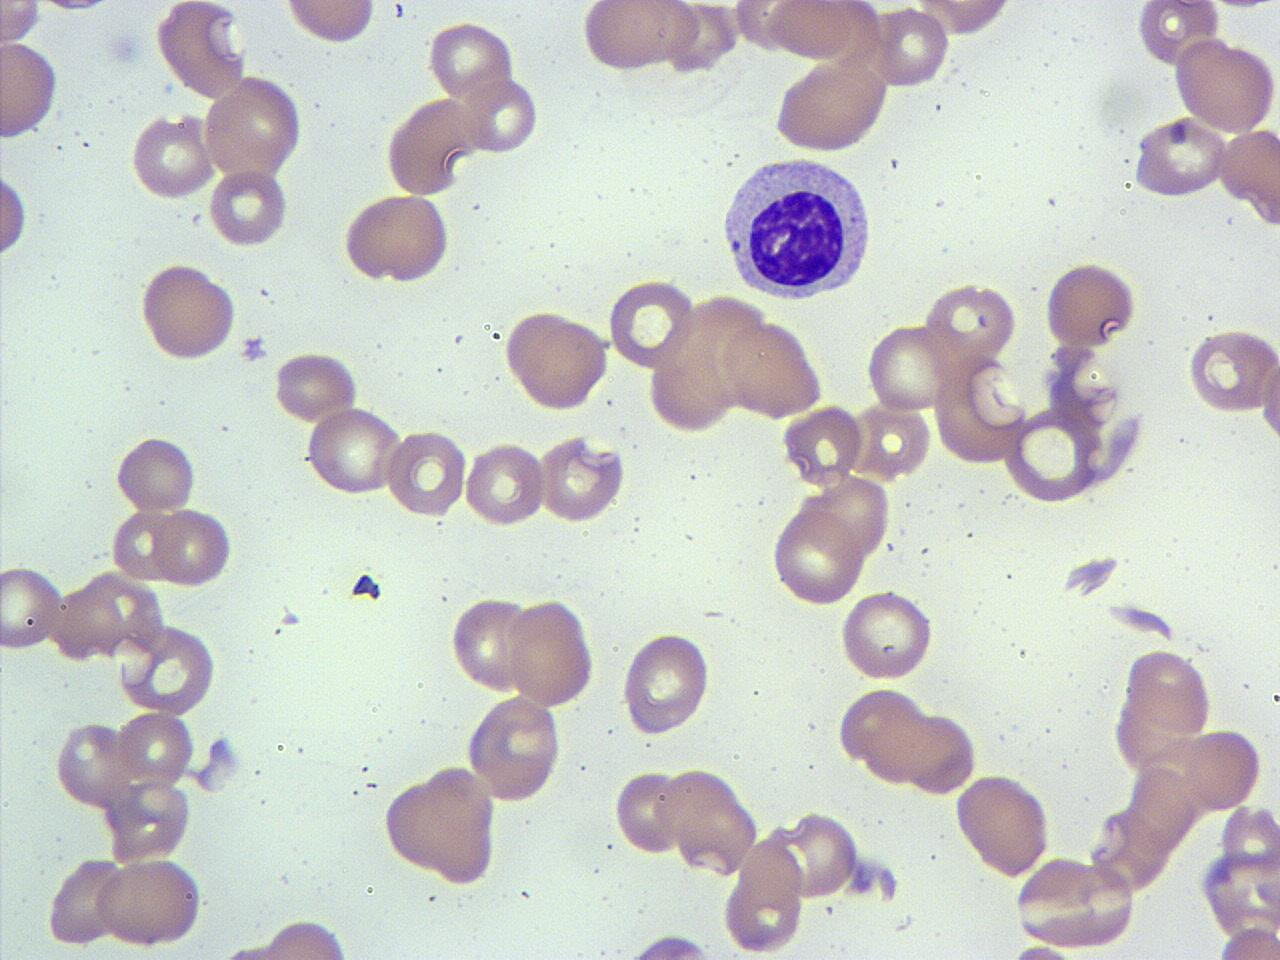Platelets: (1092, 74, 1144, 133), (1064, 554, 1122, 597), (198, 734, 242, 790), (104, 29, 144, 69), (205, 732, 238, 768), (350, 572, 384, 603), (239, 332, 270, 365), (279, 608, 301, 626)
RBC: (380, 766, 500, 888), (1013, 854, 1139, 952), (200, 73, 304, 185), (770, 58, 892, 154), (502, 308, 612, 412), (464, 693, 564, 804), (722, 314, 826, 419), (952, 770, 1053, 880), (1171, 34, 1279, 136), (340, 191, 454, 286), (665, 766, 759, 880), (93, 856, 207, 950), (721, 833, 807, 955), (138, 260, 240, 364), (768, 503, 866, 609), (1002, 406, 1102, 506), (508, 597, 596, 709), (622, 630, 714, 737), (835, 682, 932, 781), (116, 620, 217, 716), (1120, 644, 1215, 744), (920, 280, 1020, 376), (153, 1, 249, 100), (838, 588, 938, 682), (383, 96, 475, 199), (1040, 258, 1140, 352), (578, 0, 702, 74), (305, 404, 402, 499), (607, 275, 698, 372), (863, 321, 952, 416), (1186, 325, 1278, 417), (537, 432, 627, 524), (890, 706, 980, 796), (447, 594, 528, 694), (806, 472, 893, 564), (1134, 115, 1230, 198), (463, 438, 547, 530), (129, 111, 214, 203), (386, 426, 468, 520), (105, 776, 193, 864), (426, 19, 518, 102), (46, 852, 123, 950), (780, 404, 866, 491), (783, 806, 861, 901), (53, 718, 131, 811), (114, 432, 199, 516), (272, 348, 362, 426), (152, 505, 236, 588), (207, 165, 289, 249), (870, 5, 950, 90), (461, 74, 540, 155), (0, 37, 61, 141), (1218, 123, 1278, 228), (118, 708, 197, 788), (764, 0, 866, 62), (614, 768, 683, 858), (1133, 0, 1225, 67), (54, 581, 125, 667), (1, 562, 65, 656), (110, 507, 182, 584), (232, 916, 358, 959), (280, 0, 378, 47), (909, 0, 1017, 38), (614, 928, 726, 959), (0, 161, 29, 265), (1256, 336, 1280, 456), (1214, 924, 1280, 959), (0, 0, 42, 46)
WBC: (716, 149, 879, 303)
